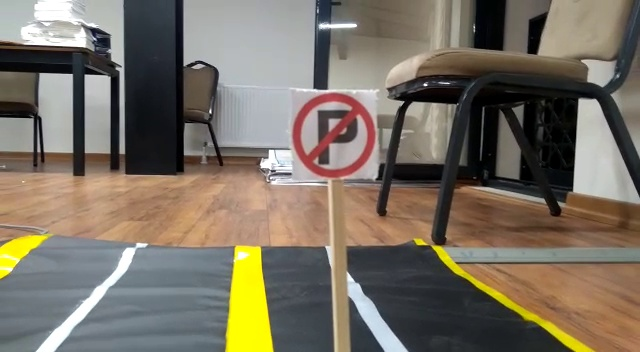park_yapilmaz: (291, 88, 378, 178)
